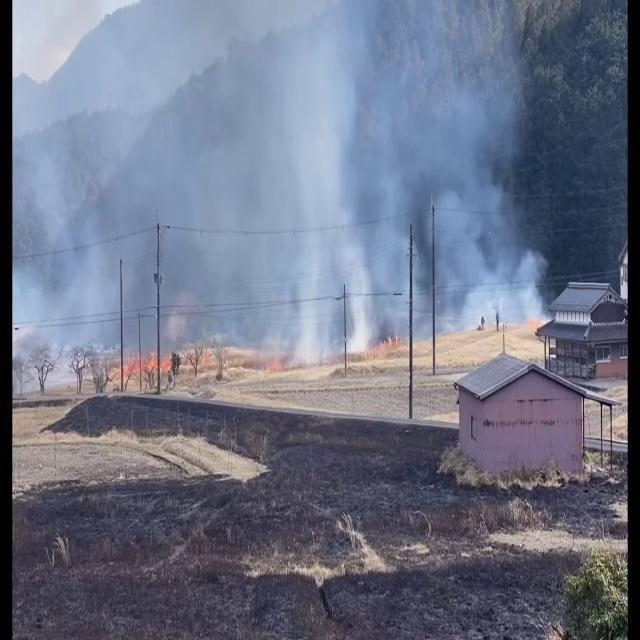Smoke: (14, 0, 557, 365)
